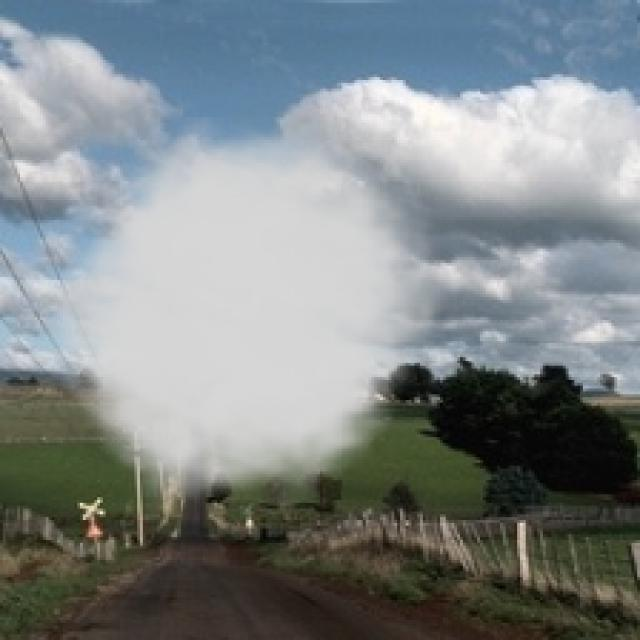Smoke: (34, 117, 457, 517)
